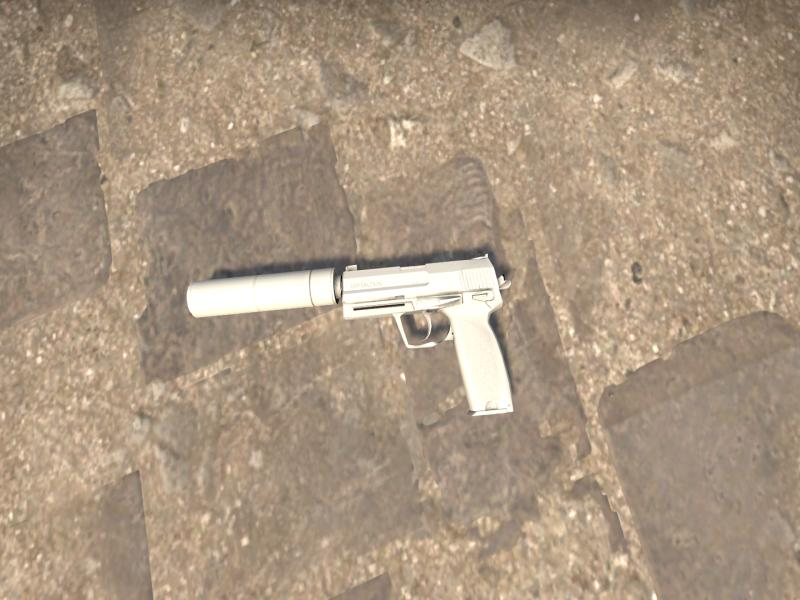USP: (187, 256, 513, 415)
